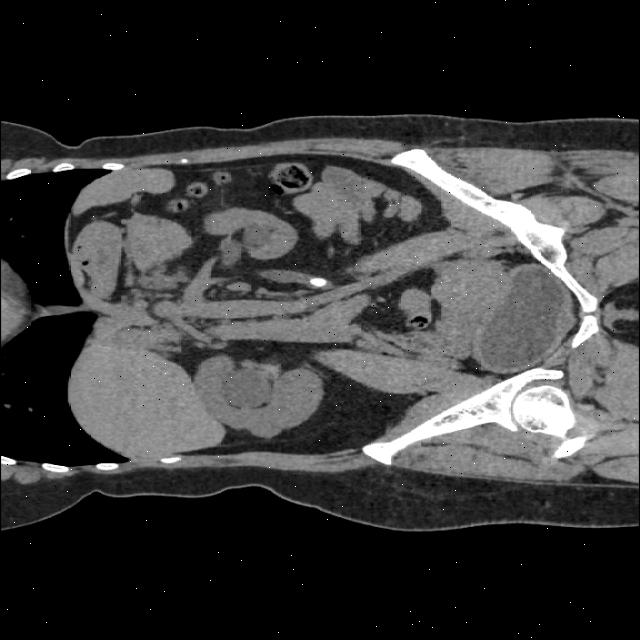kidneystone: (309, 276, 326, 286)
